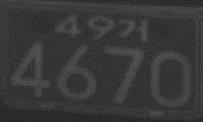0: (149, 49, 192, 109)
4: (10, 40, 50, 97), (53, 11, 82, 38)
6: (56, 42, 98, 101)
7: (102, 45, 146, 104)
9: (86, 13, 114, 40)
거: (117, 17, 150, 42)
